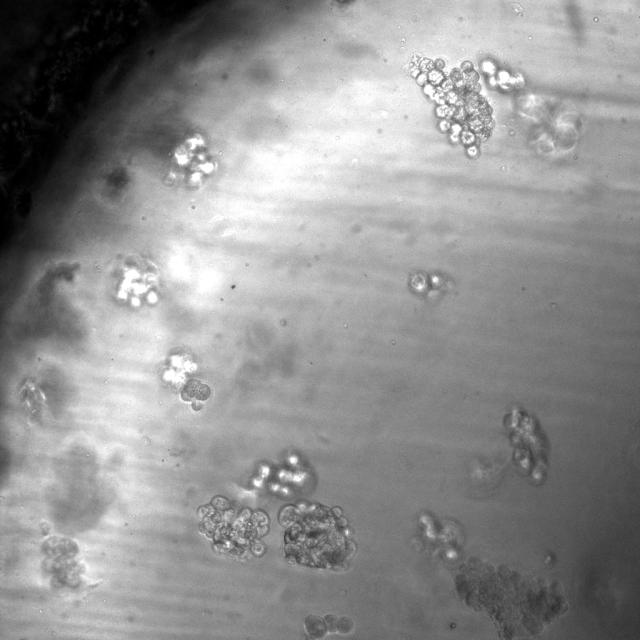organoid: (455, 556, 568, 639), (409, 54, 494, 158), (45, 438, 114, 532), (14, 262, 86, 342), (278, 502, 356, 570), (197, 495, 269, 559), (515, 93, 582, 155), (503, 406, 549, 483), (249, 448, 316, 498), (161, 353, 212, 410), (18, 368, 70, 423), (41, 521, 84, 587), (167, 134, 217, 187), (419, 511, 464, 563), (116, 257, 158, 307), (480, 57, 524, 92), (304, 614, 354, 639), (408, 269, 452, 297)
